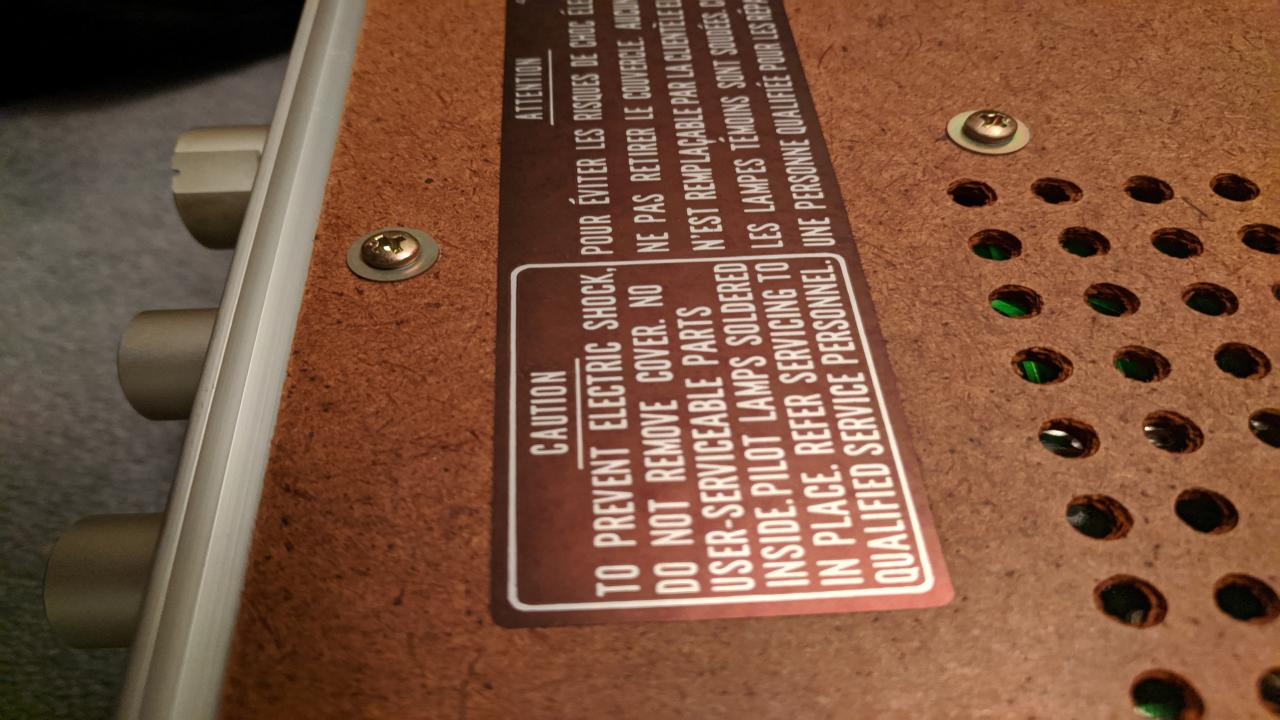CRS: (357, 228, 422, 268), (964, 108, 1023, 142)
